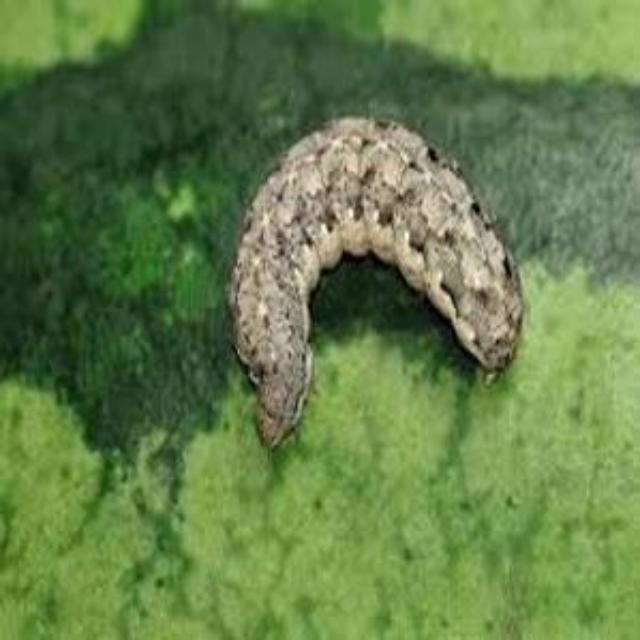Beet armyworm: (180, 109, 560, 474)
